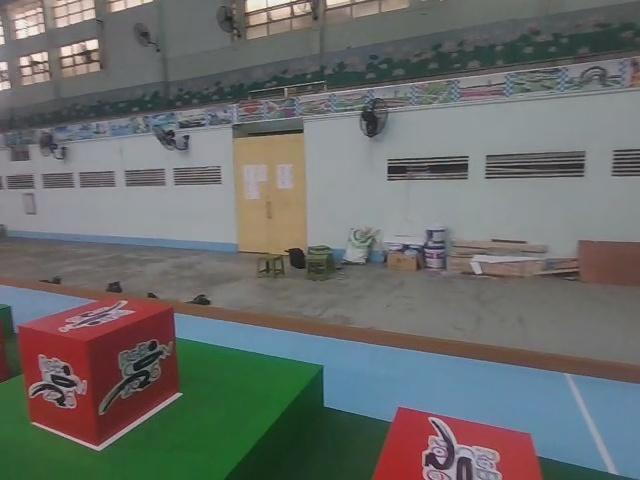R1: (13, 292, 195, 448), (368, 403, 543, 480)
